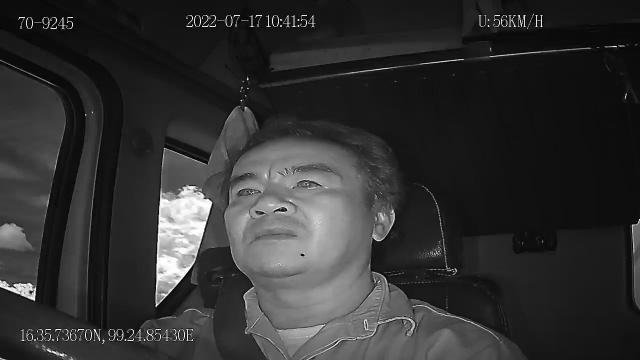SafeDriving: (284, 167, 332, 196), (230, 178, 266, 203)
Seatbelt: (210, 274, 270, 360)
